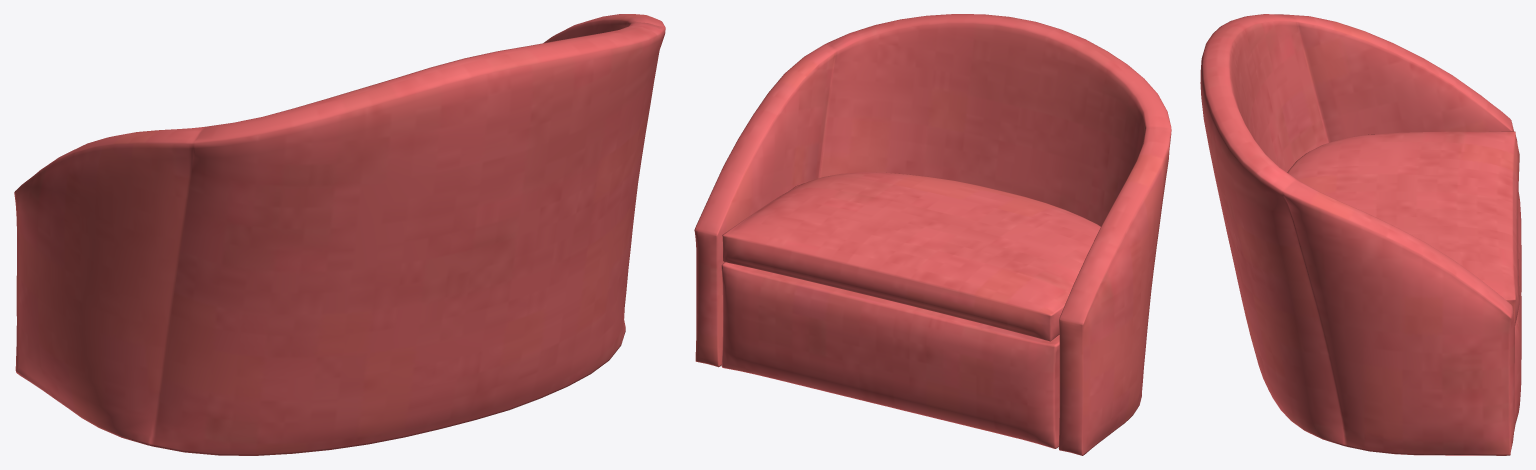
Rendered from Sofa27.glb.
3 renders of one model, left to right at view 1: azimuth 30°, elevation 25°; view 2: azimuth 150°, elevation 25°; view 3: azimuth 270°, elevation 25°, orthographic. The views are drawn at different scales.
Visible parts, largest first — view 1: Sofa27_model; view 2: Sofa27_model; view 3: Sofa27_model.
Boxes of the visible parts, box(x1,y1,x2,y2) form: Sofa27_model: box(14, 14, 665, 455); Sofa27_model: box(694, 14, 1171, 455); Sofa27_model: box(1200, 14, 1521, 455).
Bounding box in the file's own units: 2.46 × 1.67 × 1.62.
Materials: 1 (1 with a texture image).
